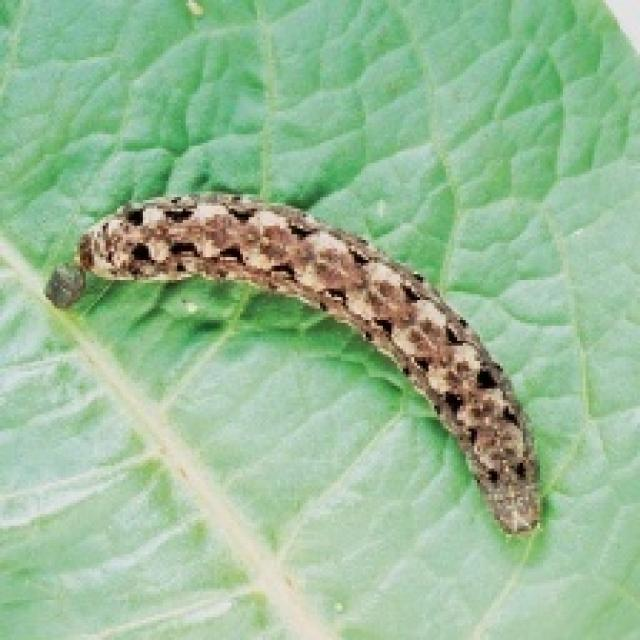armyworm: (32, 170, 564, 555)
